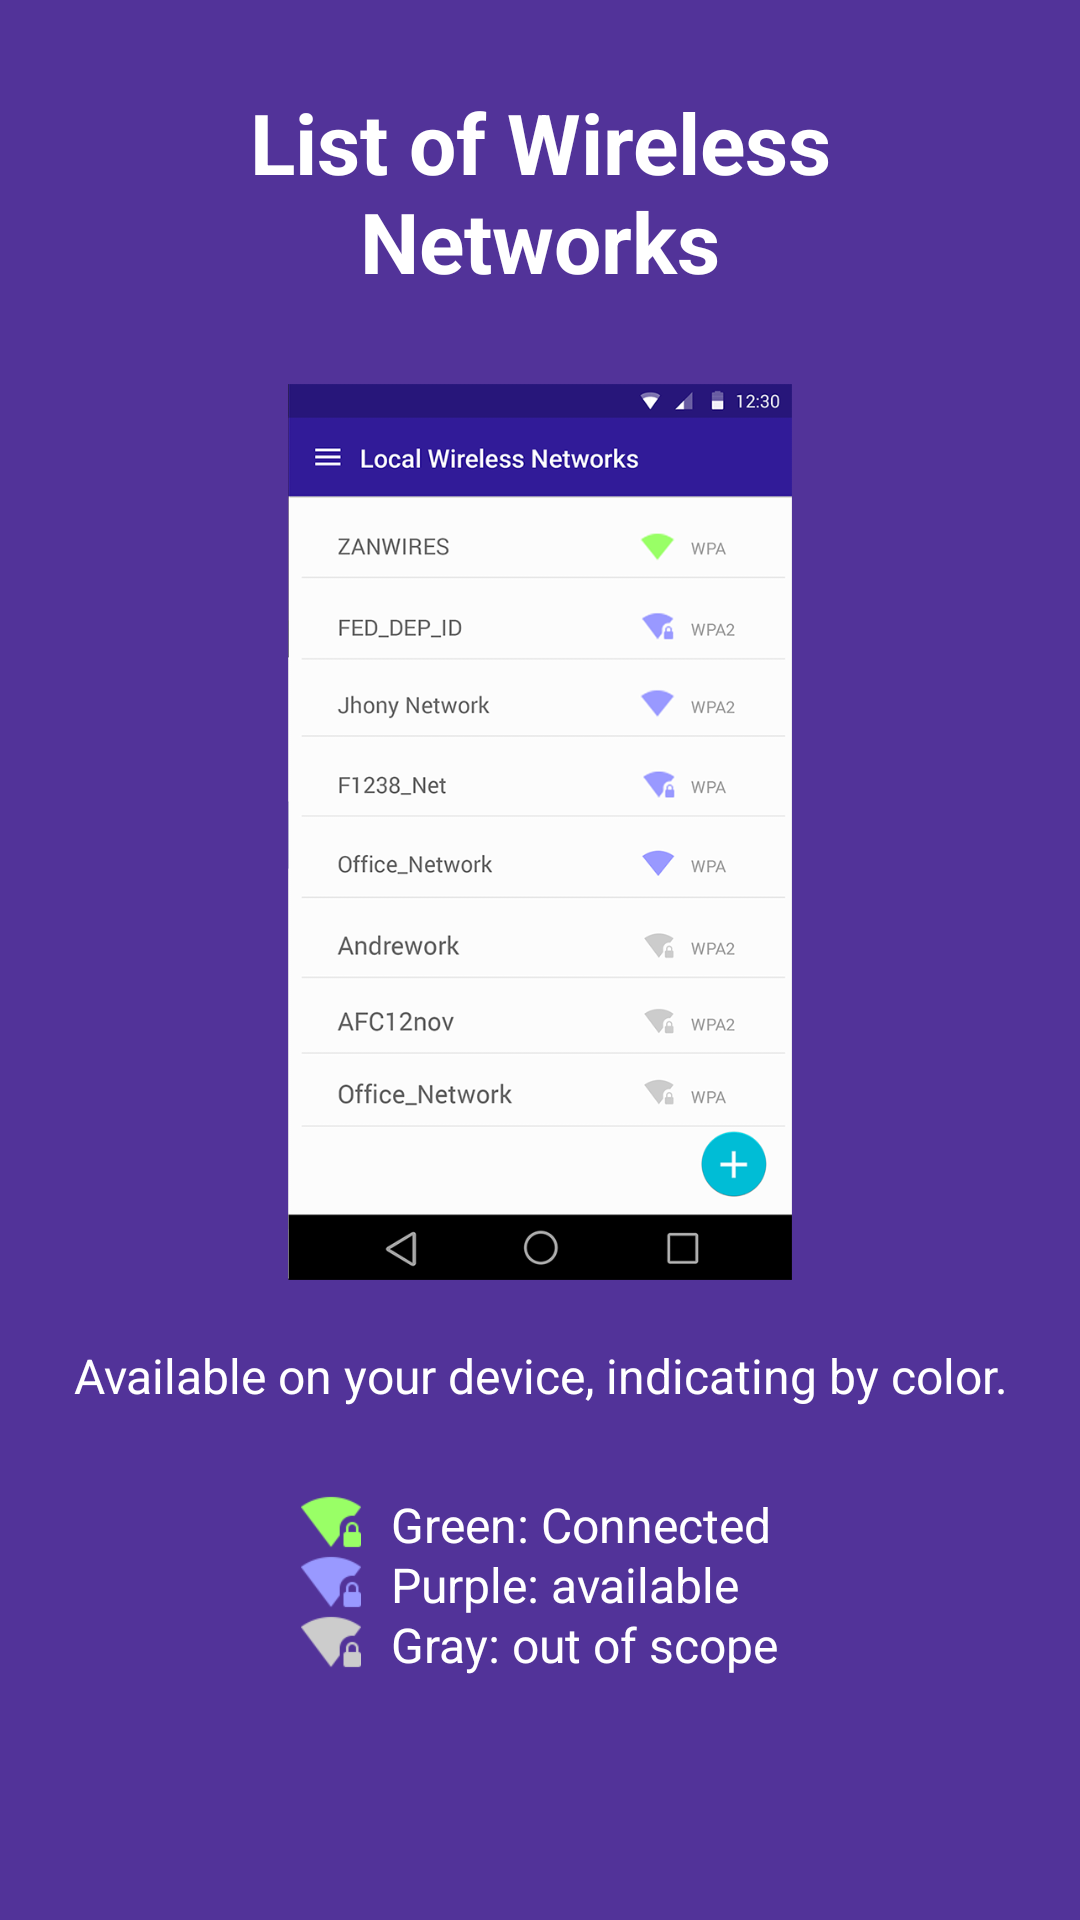

Where to tap for icons on this 1080x1920 app screen, as (x,y):
wifi lock verde: (331,1522)
